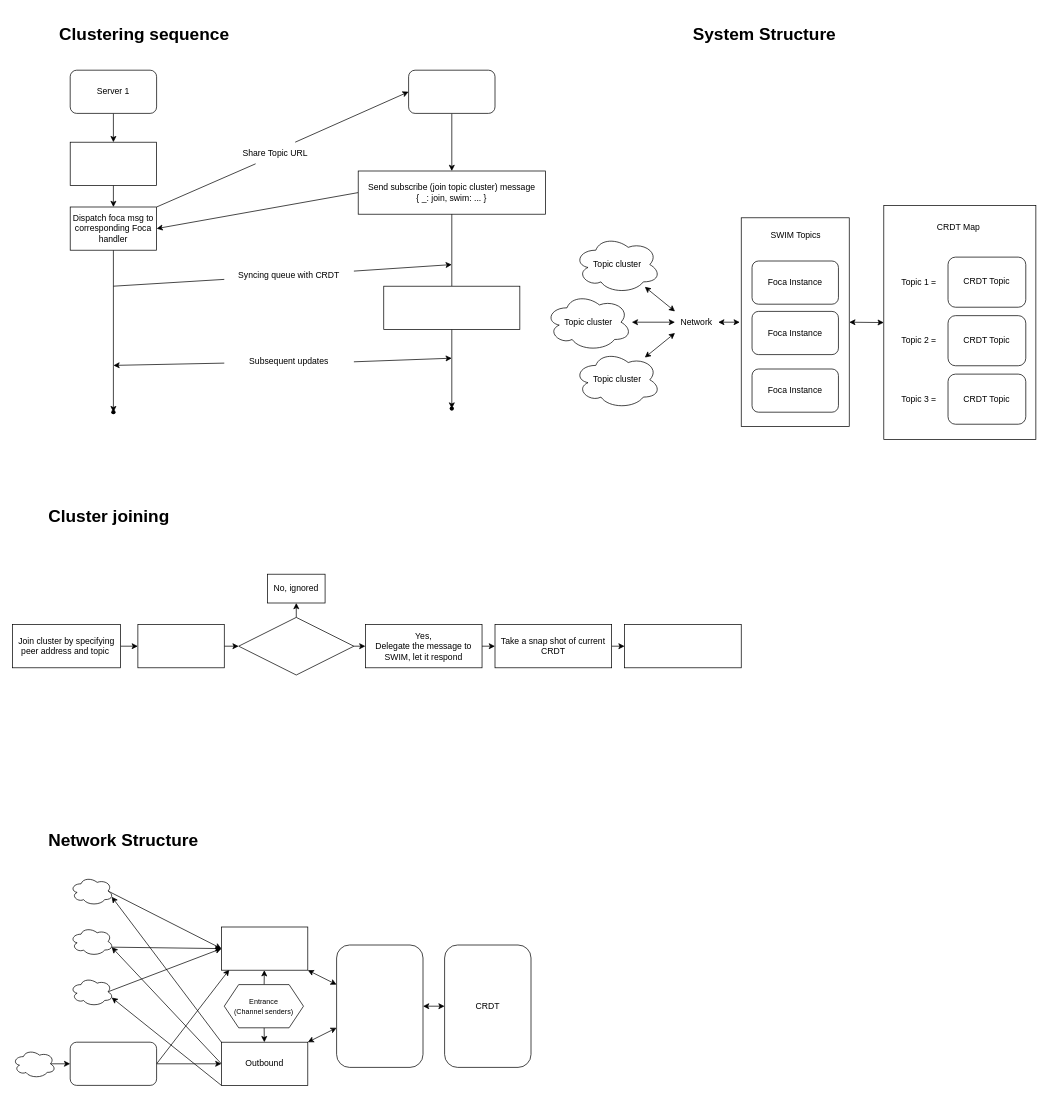
The diagram is 1049 pixels wide and 1104 high, and some of its shapes have lost their labels. The centre of each missing label's shape, as x and y in pixels:
Does it have the topic?: pixel 296 646
Inbound: pixel 264 948
Joined Foca cluster: pixel 451 307
Listener: pixel 113 1063
Quinn Server start: pixel 113 163
Send `Join` msg Peer received: pixel 180 646
Send `JoinResponse` Msg: pixel 682 646
Server 2: pixel 451 91
SWIM: pixel 379 1005
